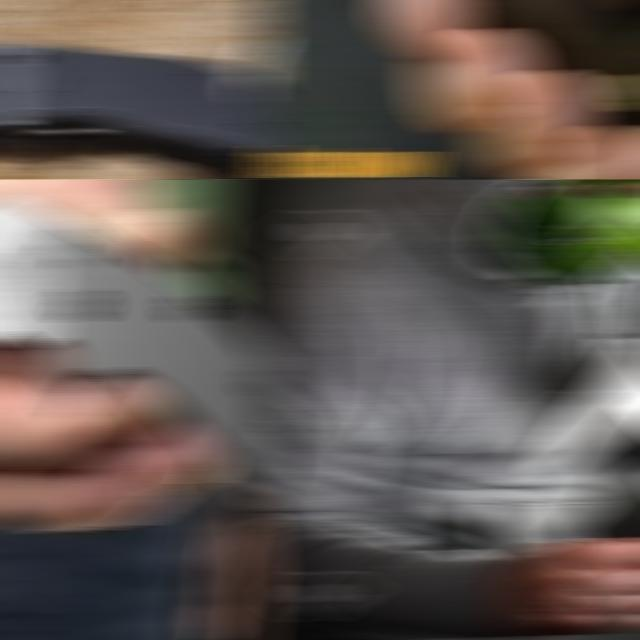Knife: (0, 200, 279, 512), (450, 0, 640, 134), (536, 353, 640, 472)
Knife_Handle: (512, 245, 640, 494)
